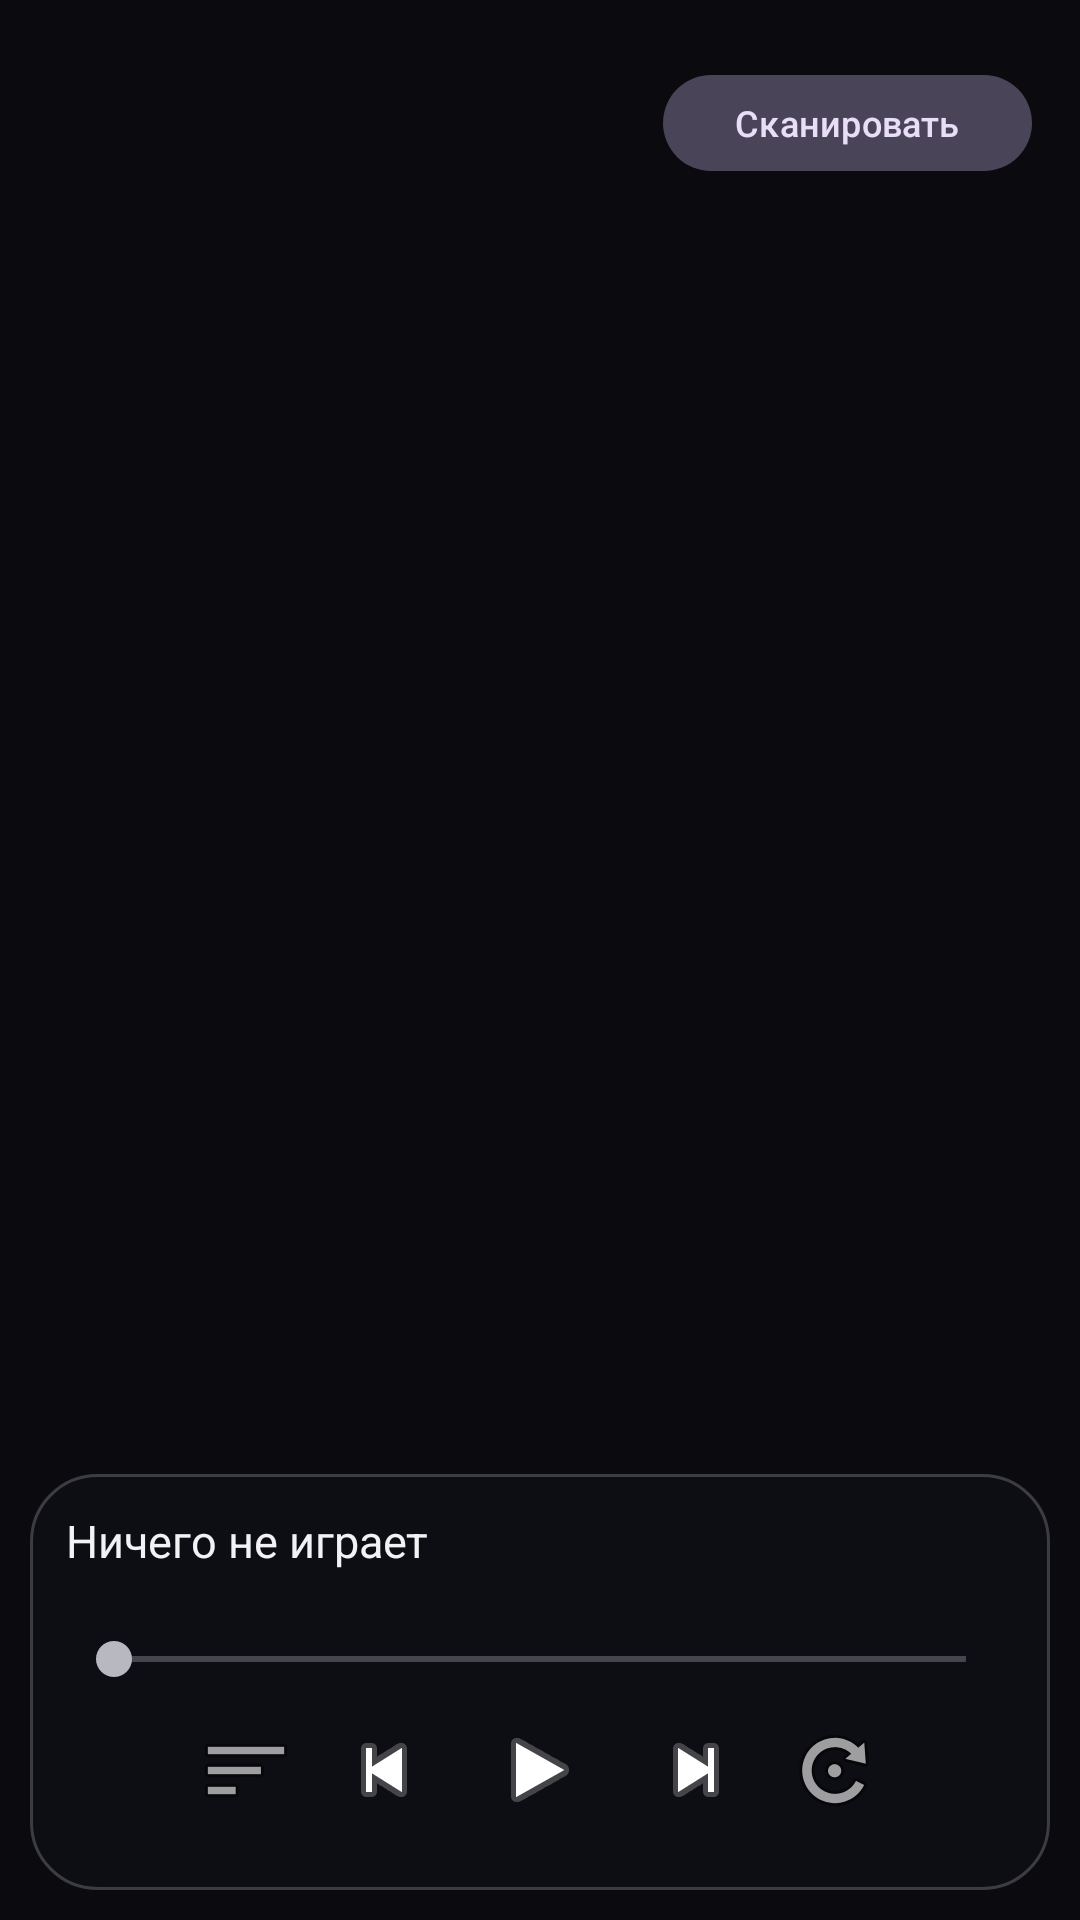

Where icons sit on this 1080 × 1920 app screen, as region(x1, y1, x2, y2):
next: region(673, 1743, 719, 1797)
play: region(511, 1738, 569, 1802)
prev: region(361, 1743, 407, 1797)
repeat: region(802, 1738, 866, 1803)
